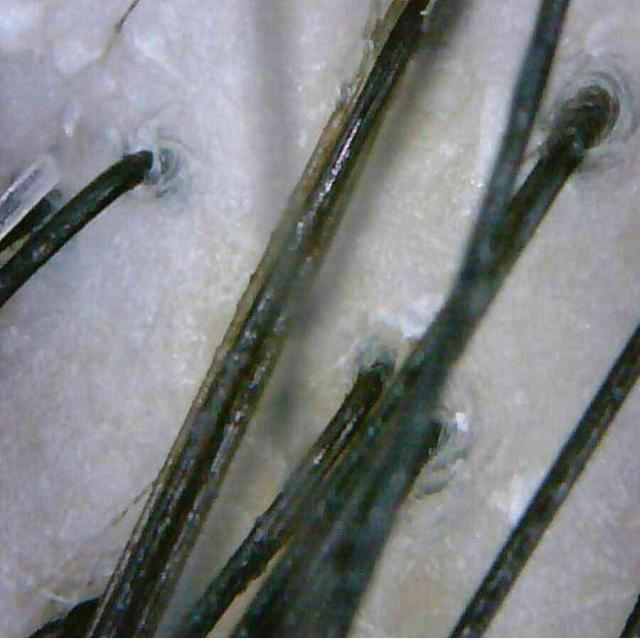d: (380, 294, 442, 338), (489, 472, 540, 523)
